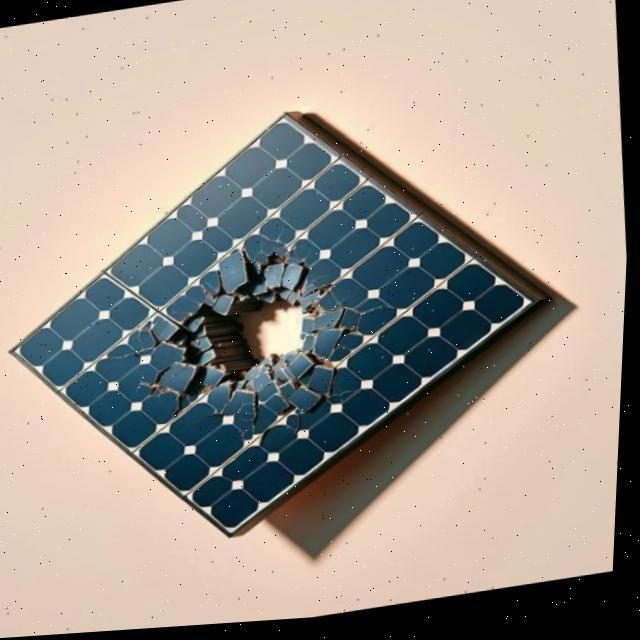Anomaly Solar Panel: (17, 72, 533, 584)
Structural Damage: (105, 209, 392, 490), (108, 347, 155, 359), (194, 412, 224, 424), (296, 418, 305, 436)
